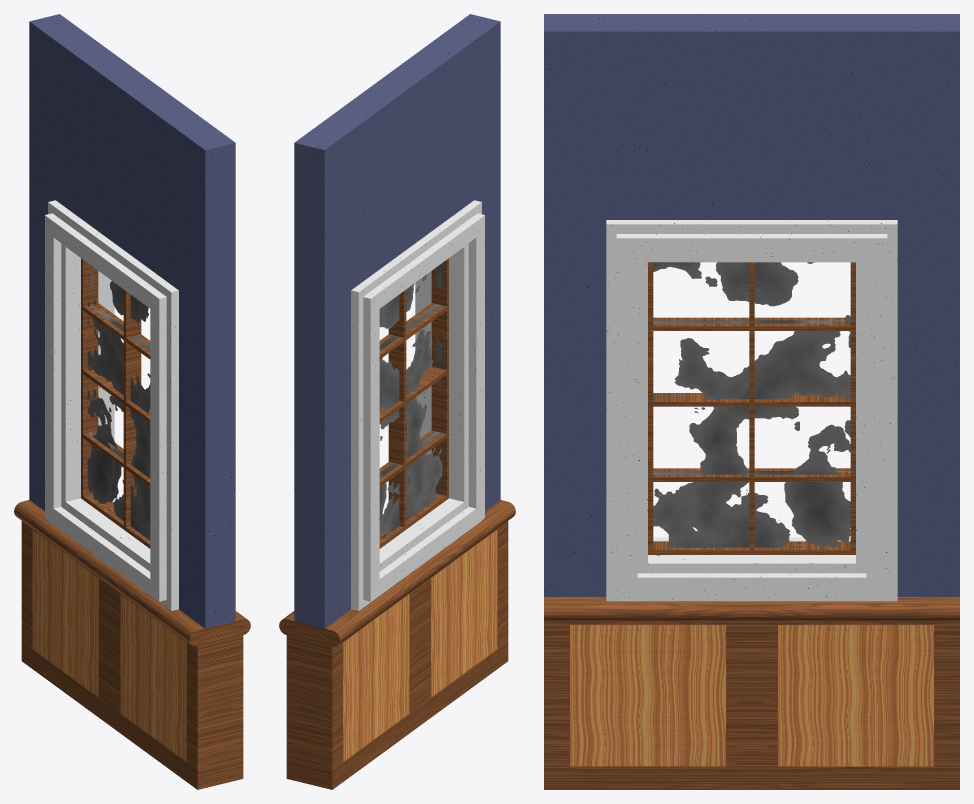
File: VentanaInterior.fbx
3 renders of one model, left to right at view 1: azimuth 30°, elevation 25°; view 2: azimuth 150°, elevation 25°; view 3: azimuth 270°, elevation 25°, orthographic. The views are drawn at different scales.
Visible parts, largest first — view 1: VentanaInterior; view 2: VentanaInterior; view 3: VentanaInterior.
Part boxes in pixels (x1,y1,x2,y2): VentanaInterior: [14, 14, 250, 789]; VentanaInterior: [279, 14, 515, 789]; VentanaInterior: [544, 14, 959, 789].
Size of what is drawn, in the model's own units: 200 by 40 by 400.
